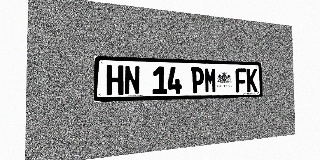1: (152, 66, 167, 94)
4: (167, 66, 182, 94)
F: (235, 68, 247, 92)
H: (106, 65, 123, 95)
K: (246, 68, 257, 92)
M: (204, 67, 217, 93)
N: (124, 65, 140, 95)
P: (191, 67, 204, 93)
